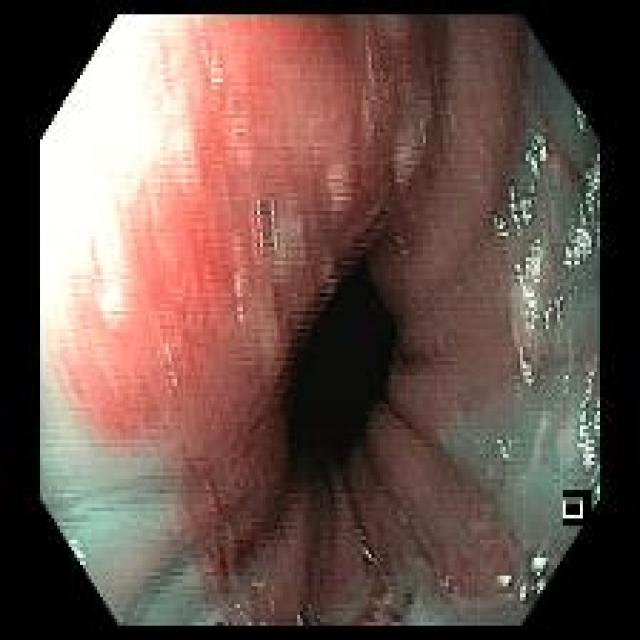color misalignment: (564, 502, 582, 522)
contrast: (275, 261, 414, 471)
saturation: (43, 19, 200, 370)
specularity: (515, 237, 544, 334), (578, 367, 596, 473), (564, 205, 592, 270), (510, 185, 533, 237), (585, 155, 598, 246), (525, 136, 548, 184), (204, 43, 225, 89), (546, 295, 564, 334), (68, 539, 86, 568), (520, 349, 532, 385), (532, 552, 548, 576), (492, 218, 508, 238), (271, 200, 277, 250), (498, 439, 511, 462), (259, 201, 264, 254), (497, 576, 513, 590), (578, 108, 586, 131), (595, 400, 599, 436), (520, 585, 527, 605), (537, 582, 547, 594), (564, 375, 568, 396), (530, 186, 535, 194)
